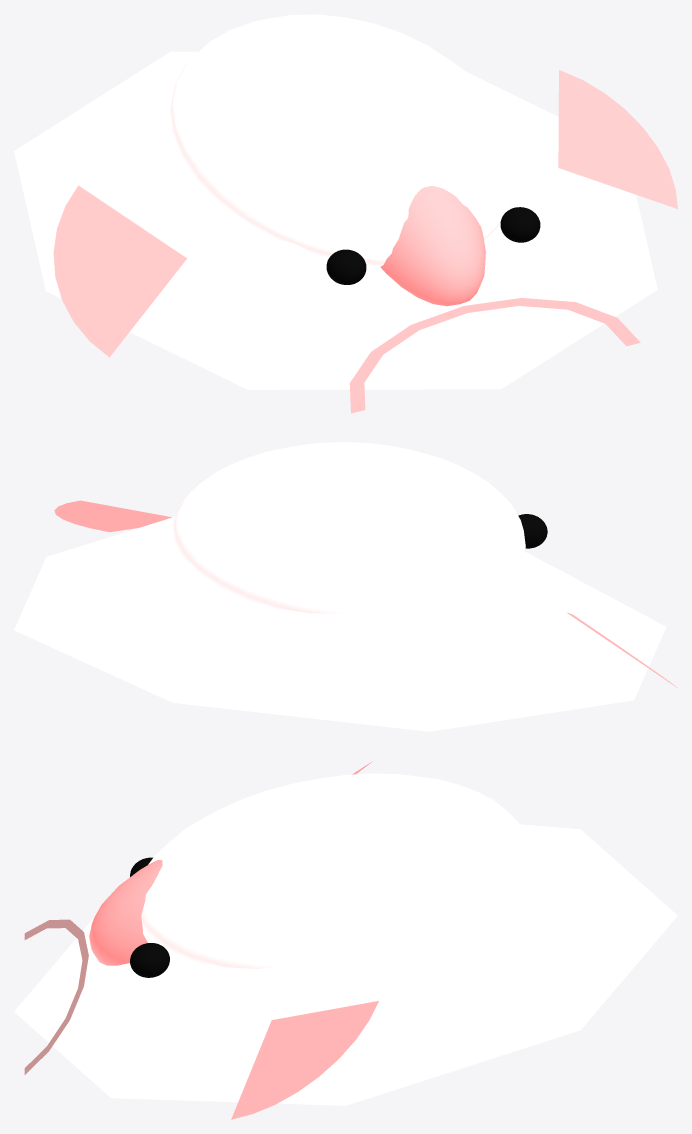
The picture shows the model from 3 angles, top to bottom: view 1: azimuth 30°, elevation 25°; view 2: azimuth 150°, elevation 25°; view 3: azimuth 270°, elevation 25°; orthographic projection.
Parts seen in each view (by area): view 1: Cylinder, Sphere (×4), Circle (×2), Ring; view 2: Cylinder, Sphere (×2), Circle; view 3: Cylinder, Sphere (×3), Circle, Ring.
Part boxes in pixels (bbox=[...]): Cylinder: bbox=[14, 51, 657, 389]; Sphere (×4): bbox=[168, 14, 540, 306]; Circle (×2): bbox=[53, 70, 677, 357]; Ring: bbox=[349, 298, 640, 413]; Cylinder: bbox=[14, 516, 666, 731]; Sphere (×2): bbox=[170, 442, 547, 613]; Circle: bbox=[54, 500, 171, 532]; Cylinder: bbox=[14, 824, 677, 1105]; Sphere (×3): bbox=[89, 773, 529, 977]; Circle: bbox=[231, 1001, 378, 1119]; Ring: bbox=[24, 919, 88, 1074].
Bounding box in the file's own units: 2.05 × 0.695 × 1.98.
